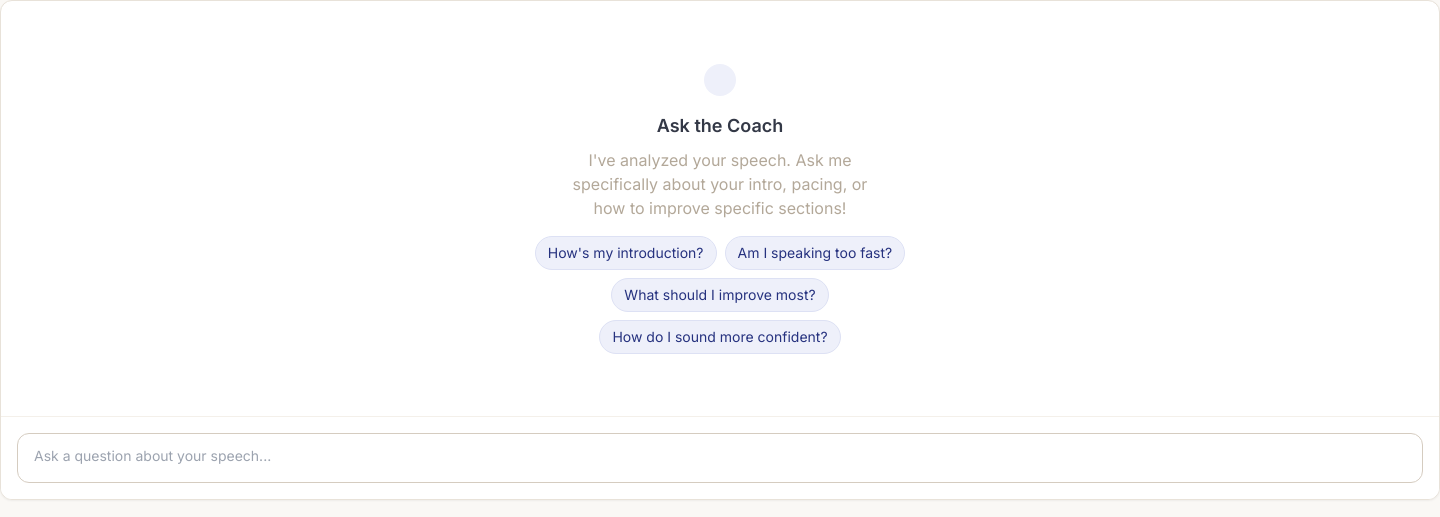
Test case: CoachChat starter prompt chips › hides the starter chips once a conversation has started
Expected: the button "How's my introduction?" is shown, [535,236,716,270]
Step 1. Click the button "Am I speaking too fast?" → (815, 252), box [724,236,905,270]
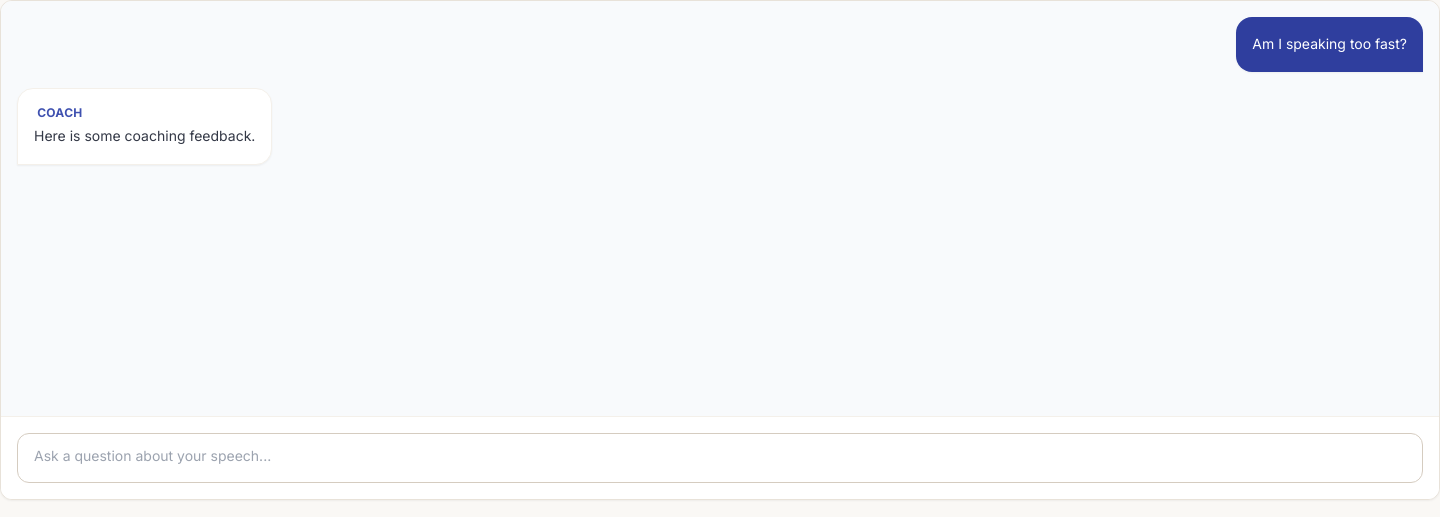
Expected: the text "Here is some coaching feedback." is shown, [34,127,255,144]
Expected: the button "How's my introduction?" is gone
